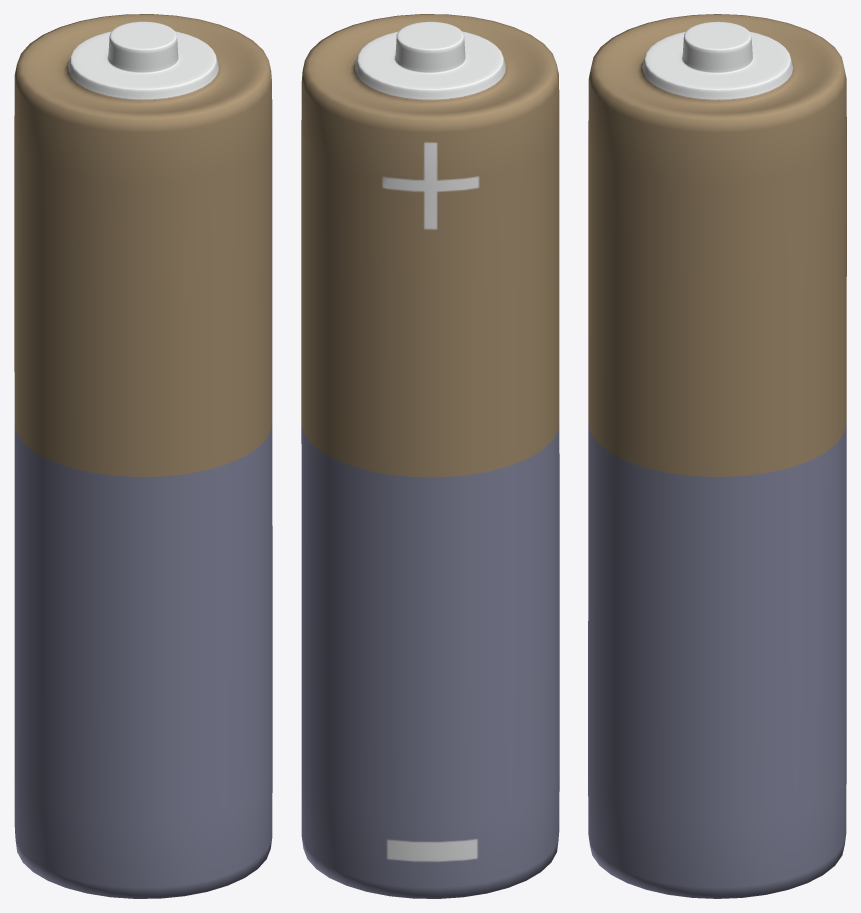
The model's file is battery.fbx.
3 renders of one model, left to right at view 1: azimuth 30°, elevation 25°; view 2: azimuth 150°, elevation 25°; view 3: azimuth 270°, elevation 25°, orthographic.
Parts seen in each view (by area): view 1: Battery; view 2: Battery; view 3: Battery.
Boxes of the visible parts, box(x1,y1,x2,y2) form: Battery: box(14, 14, 272, 898); Battery: box(301, 14, 559, 898); Battery: box(588, 14, 846, 898).
Bounding box in the file's own units: 195 × 675 × 195.
Materials: 1 (1 with a texture image).
